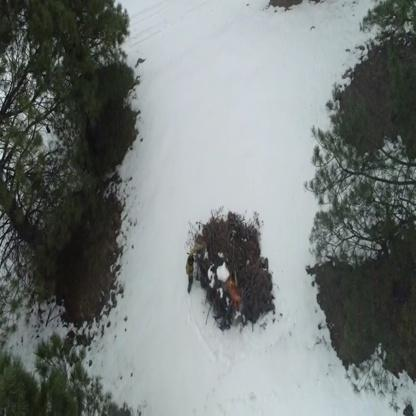Fire: (227, 280, 242, 307)
